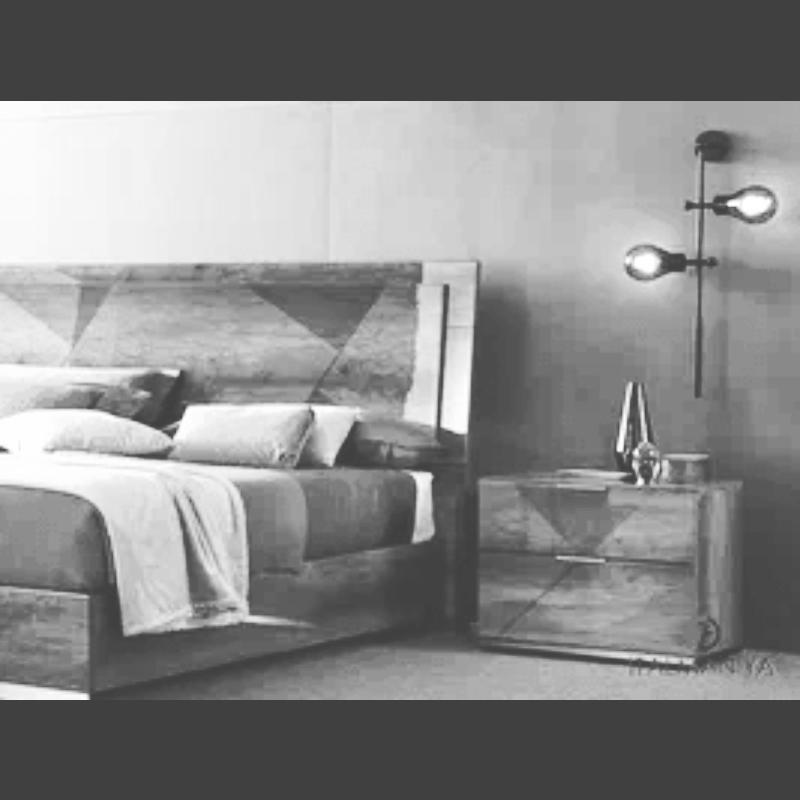pillow: (167, 402, 315, 472), (1, 404, 176, 457), (347, 418, 445, 474), (0, 374, 104, 414)
